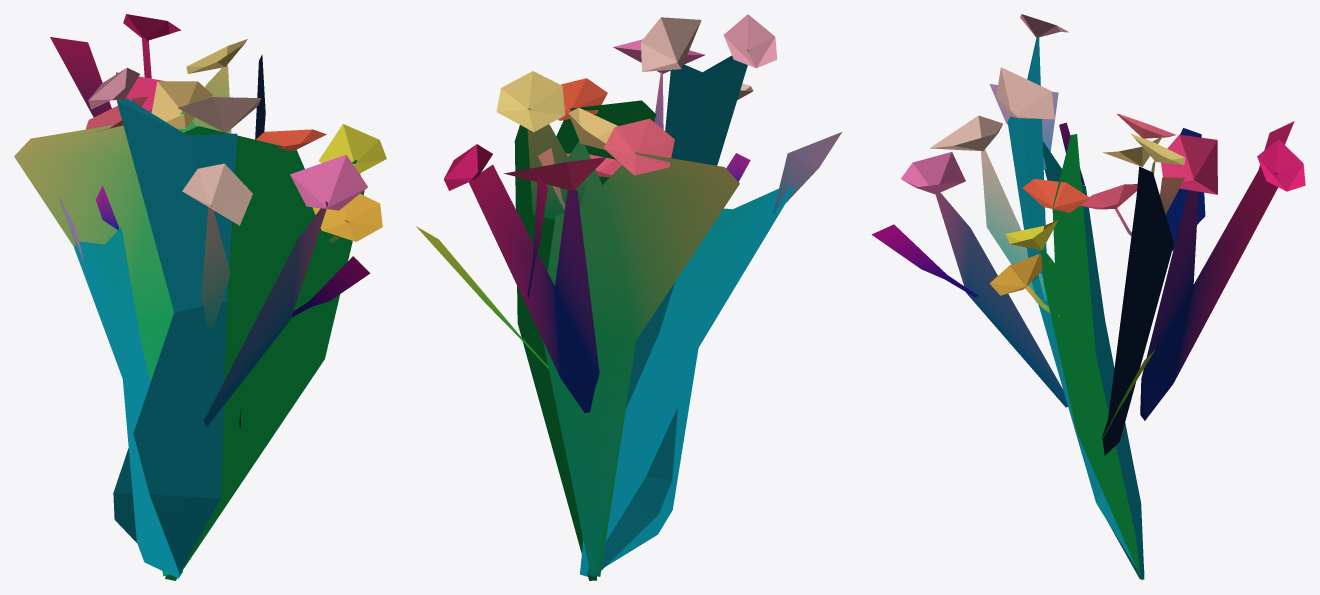
File: Nordic_Coastal_Groundcover_vlqkdeaja_Mid_vlqkdeaja_VarQ_LOD1.fbx
The picture shows the model from 3 angles, left to right: view 1: azimuth 30°, elevation 25°; view 2: azimuth 150°, elevation 25°; view 3: azimuth 270°, elevation 25°; orthographic projection. The views are drawn at different scales.
Visible parts, largest first — view 1: _50c1_VarQ_LOD3; view 2: _50c1_VarQ_LOD3; view 3: _50c1_VarQ_LOD3.
Part boxes in pixels (x1,y1,x2,y2): _50c1_VarQ_LOD3: (14, 14, 386, 580); _50c1_VarQ_LOD3: (416, 14, 841, 580); _50c1_VarQ_LOD3: (871, 14, 1305, 580).
Bounding box in the file's own units: 26.19 × 39.32 × 29.64.
